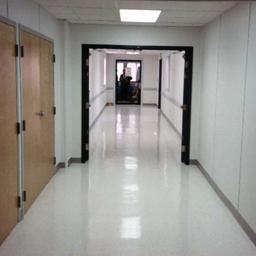Puerta: (23, 39, 54, 212), (2, 27, 18, 240)
